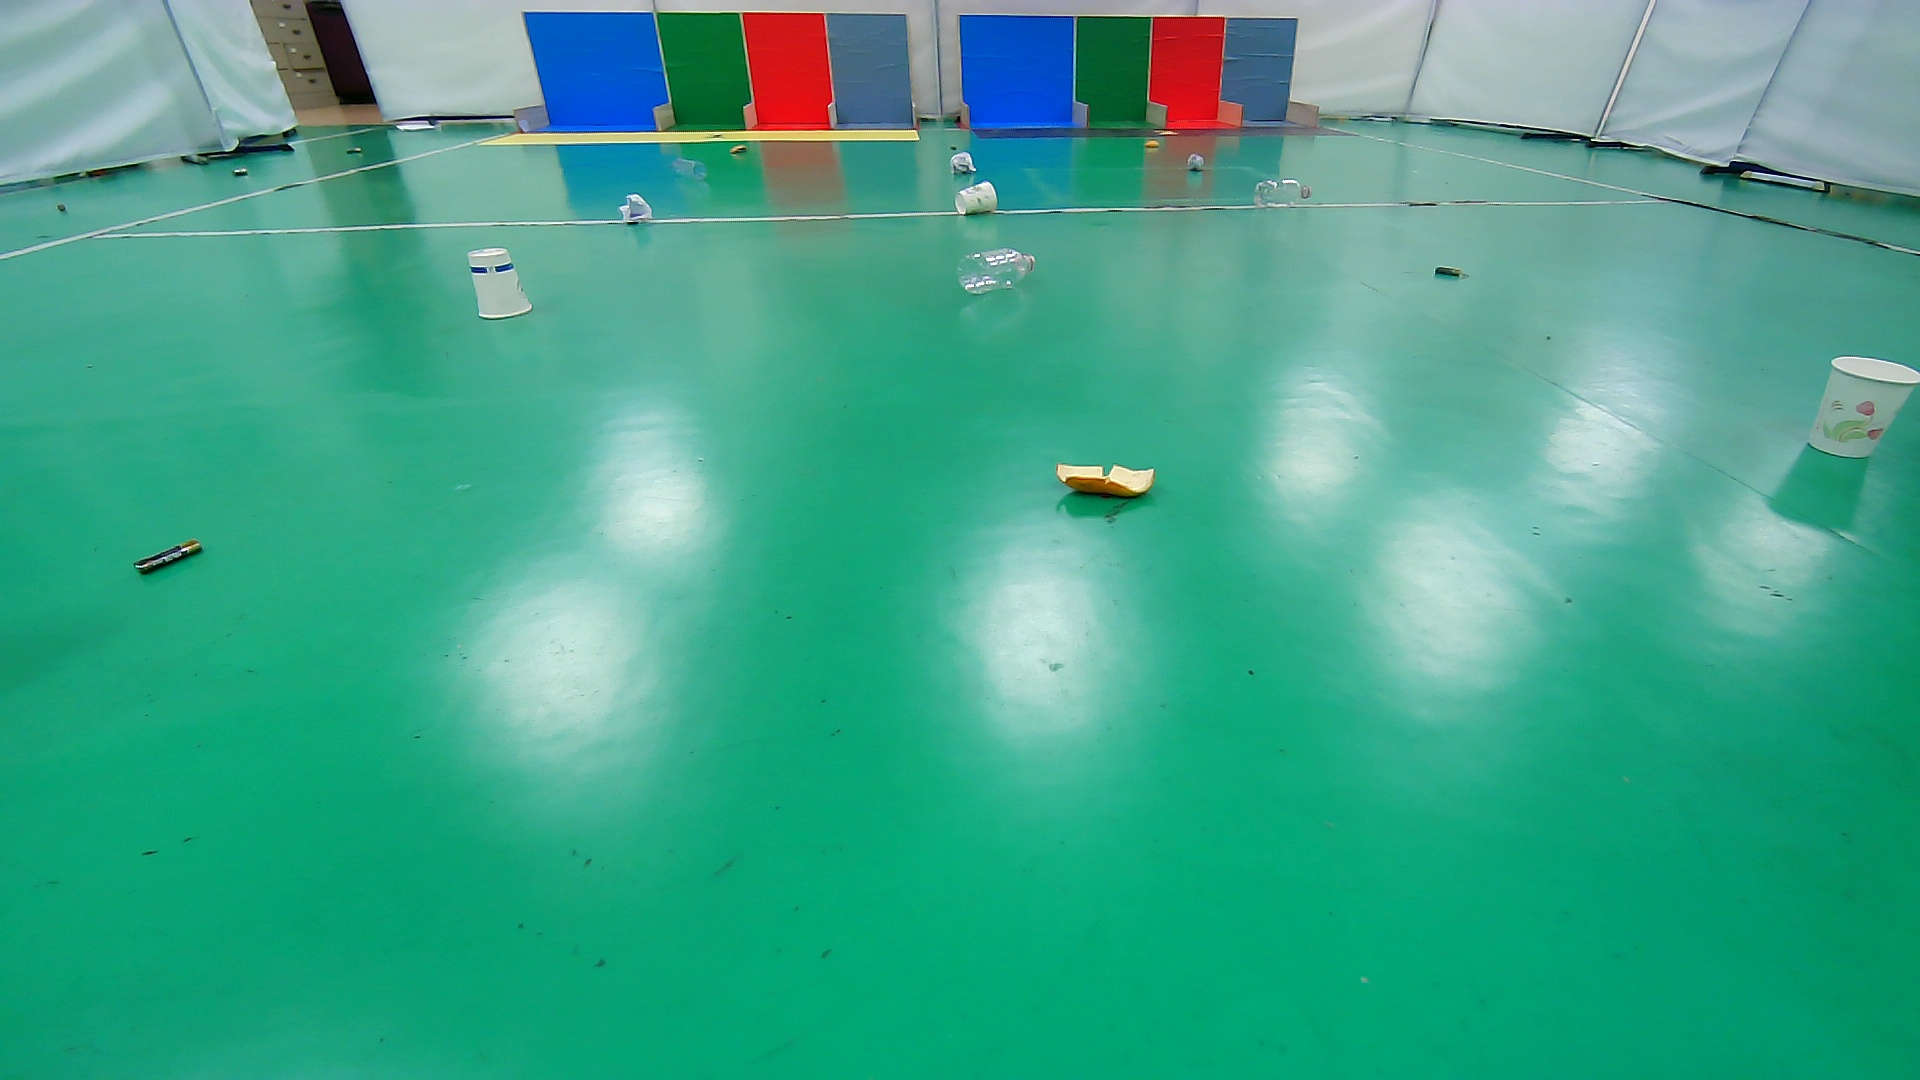battery: (112, 530, 225, 588), (1422, 255, 1476, 287), (47, 194, 76, 222), (338, 138, 371, 161), (224, 161, 256, 181), (944, 140, 963, 154)
bottle: (953, 245, 1036, 295), (1247, 178, 1313, 212), (666, 156, 709, 183)
orangepeel: (1039, 440, 1170, 520), (725, 141, 753, 157), (1139, 137, 1166, 152)
papercup: (1801, 345, 1920, 463), (465, 247, 538, 320), (953, 179, 1000, 216)
spitball: (617, 190, 655, 227), (948, 150, 978, 178), (1184, 152, 1207, 173)
